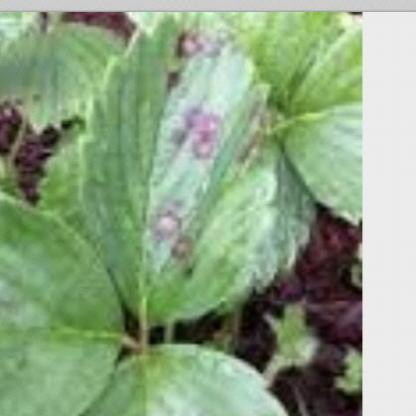Strawberry_Leaf_Spot: (77, 12, 319, 330)
